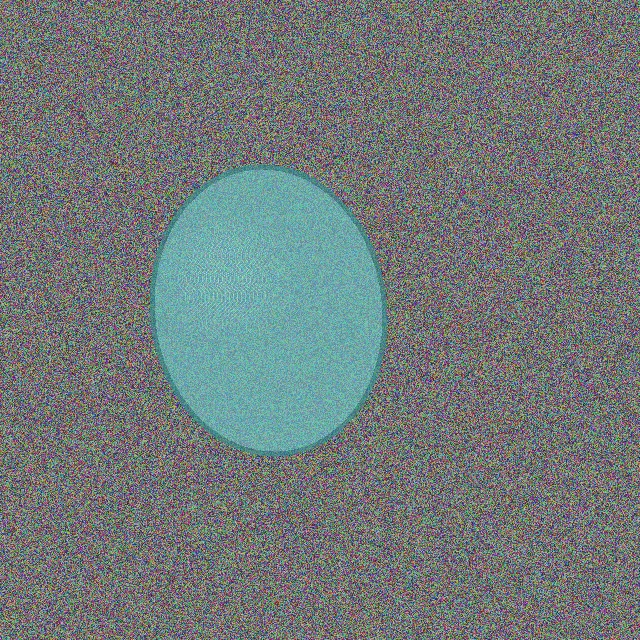lens: (152, 167, 384, 453)
